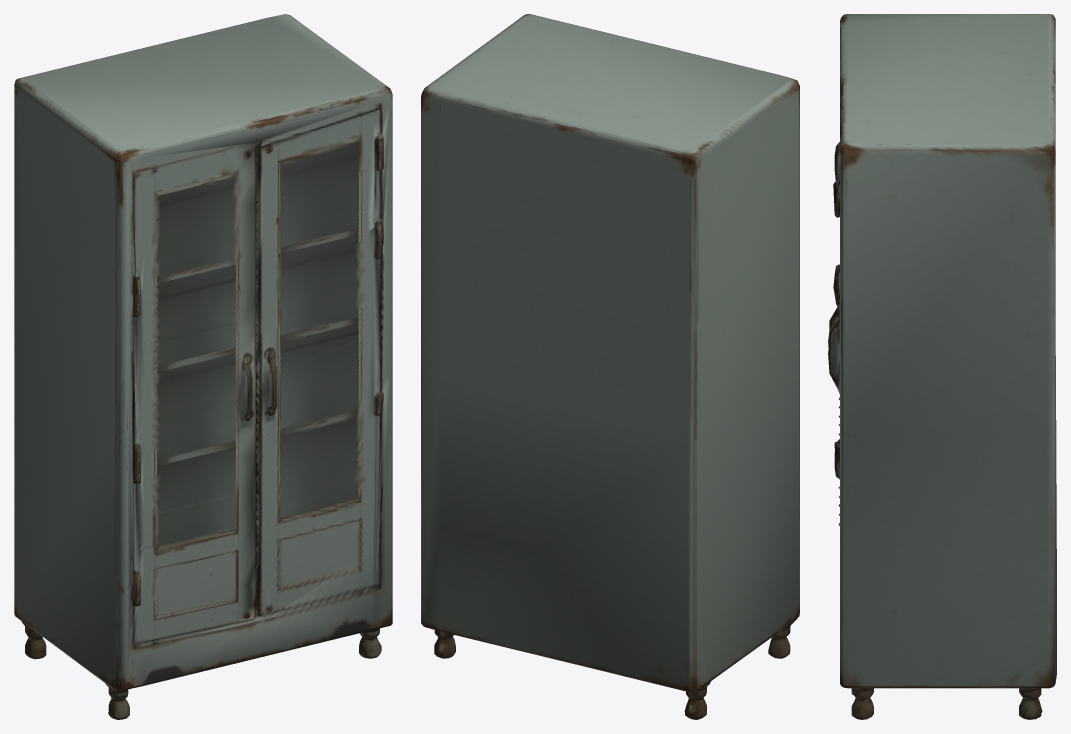
The model's file is GlassMedicineCabinet.fbx.
3 renders of one model, left to right at view 1: azimuth 30°, elevation 25°; view 2: azimuth 150°, elevation 25°; view 3: azimuth 270°, elevation 25°, orthographic.
Visible parts, largest first — view 1: mesh_node; view 2: mesh_node; view 3: mesh_node.
Boxes of the visible parts, x1,y1,x2,y2 form: mesh_node: (14, 14, 392, 719); mesh_node: (421, 14, 799, 719); mesh_node: (828, 14, 1056, 719).
Bounding box in the file's own units: 96.67 × 191 × 68.49.
Materials: 1 (1 with a texture image).
